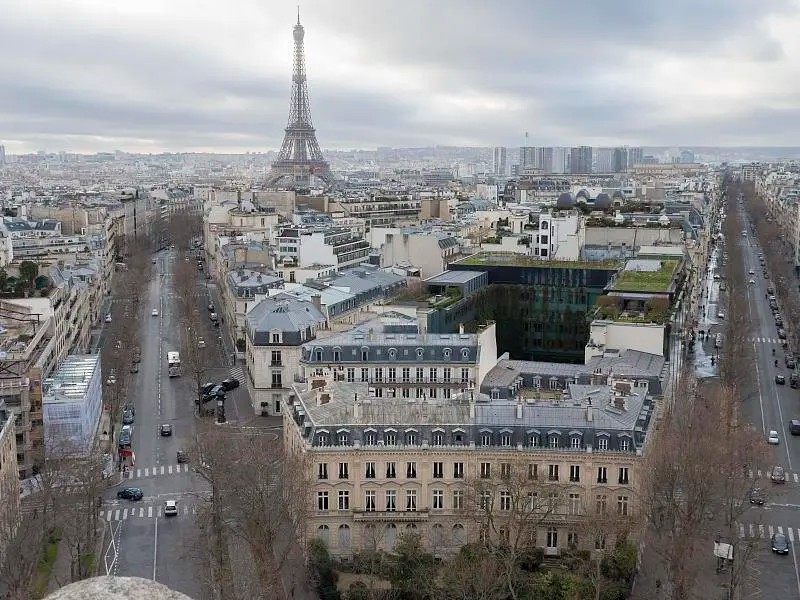Eiffel: (261, 5, 341, 195)
